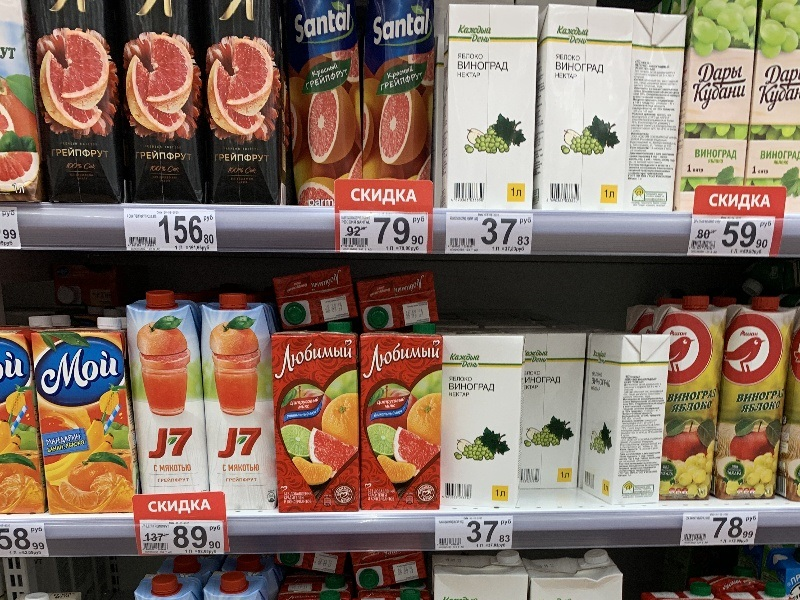juice: (32, 313, 149, 526), (200, 291, 290, 514), (269, 316, 366, 519), (124, 289, 215, 503), (352, 320, 448, 517), (709, 295, 795, 506), (653, 295, 726, 506)
